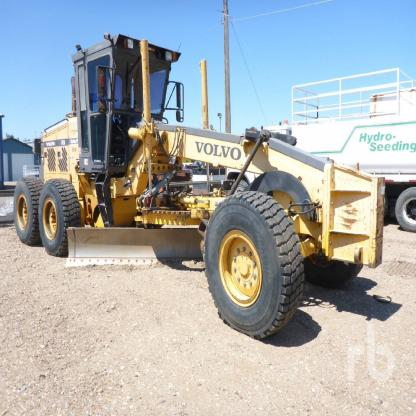bull_dozer/loader/grader: (15, 35, 397, 347)
